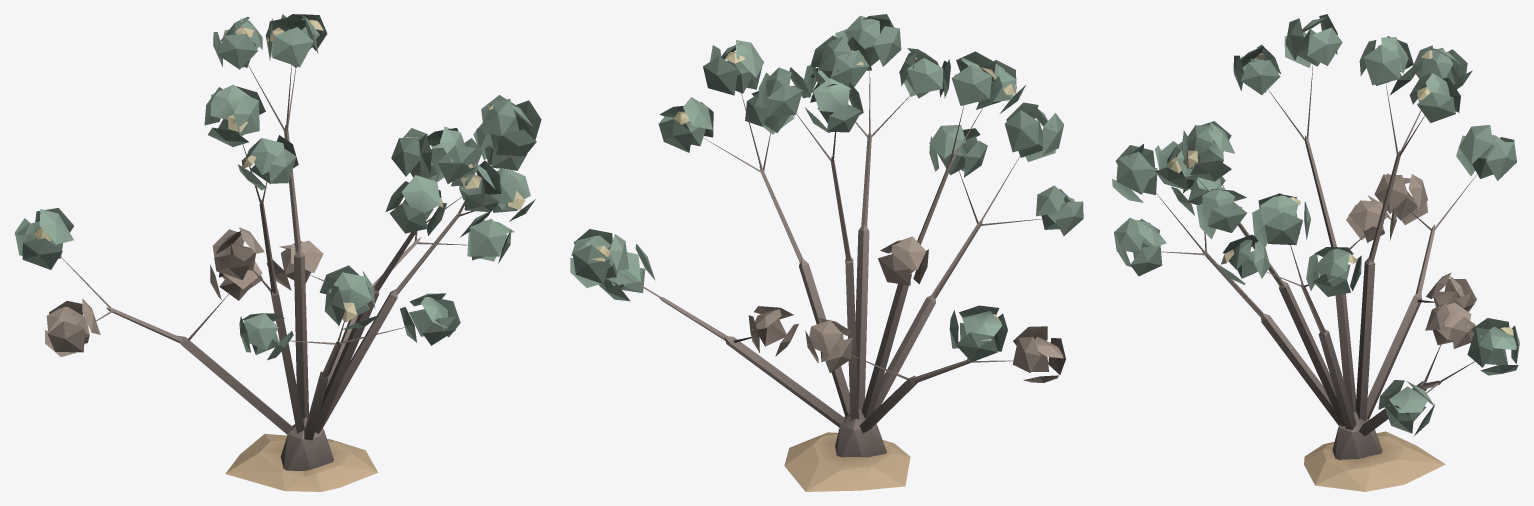
Rendered from creosote.glb.
The picture shows the model from 3 angles, left to right: view 1: azimuth 30°, elevation 25°; view 2: azimuth 150°, elevation 25°; view 3: azimuth 270°, elevation 25°; orthographic projection. The views are drawn at different scales.
Parts seen in each view (by area): view 1: creosote; view 2: creosote; view 3: creosote.
Boxes of the visible parts, x1=… form: creosote: x1=14, y1=14, x2=541, y2=491; creosote: x1=570, y1=14, x2=1083, y2=491; creosote: x1=1112, y1=14, x2=1519, y2=491.
Size of the model in its own units: 3 by 2.71 by 2.36.
